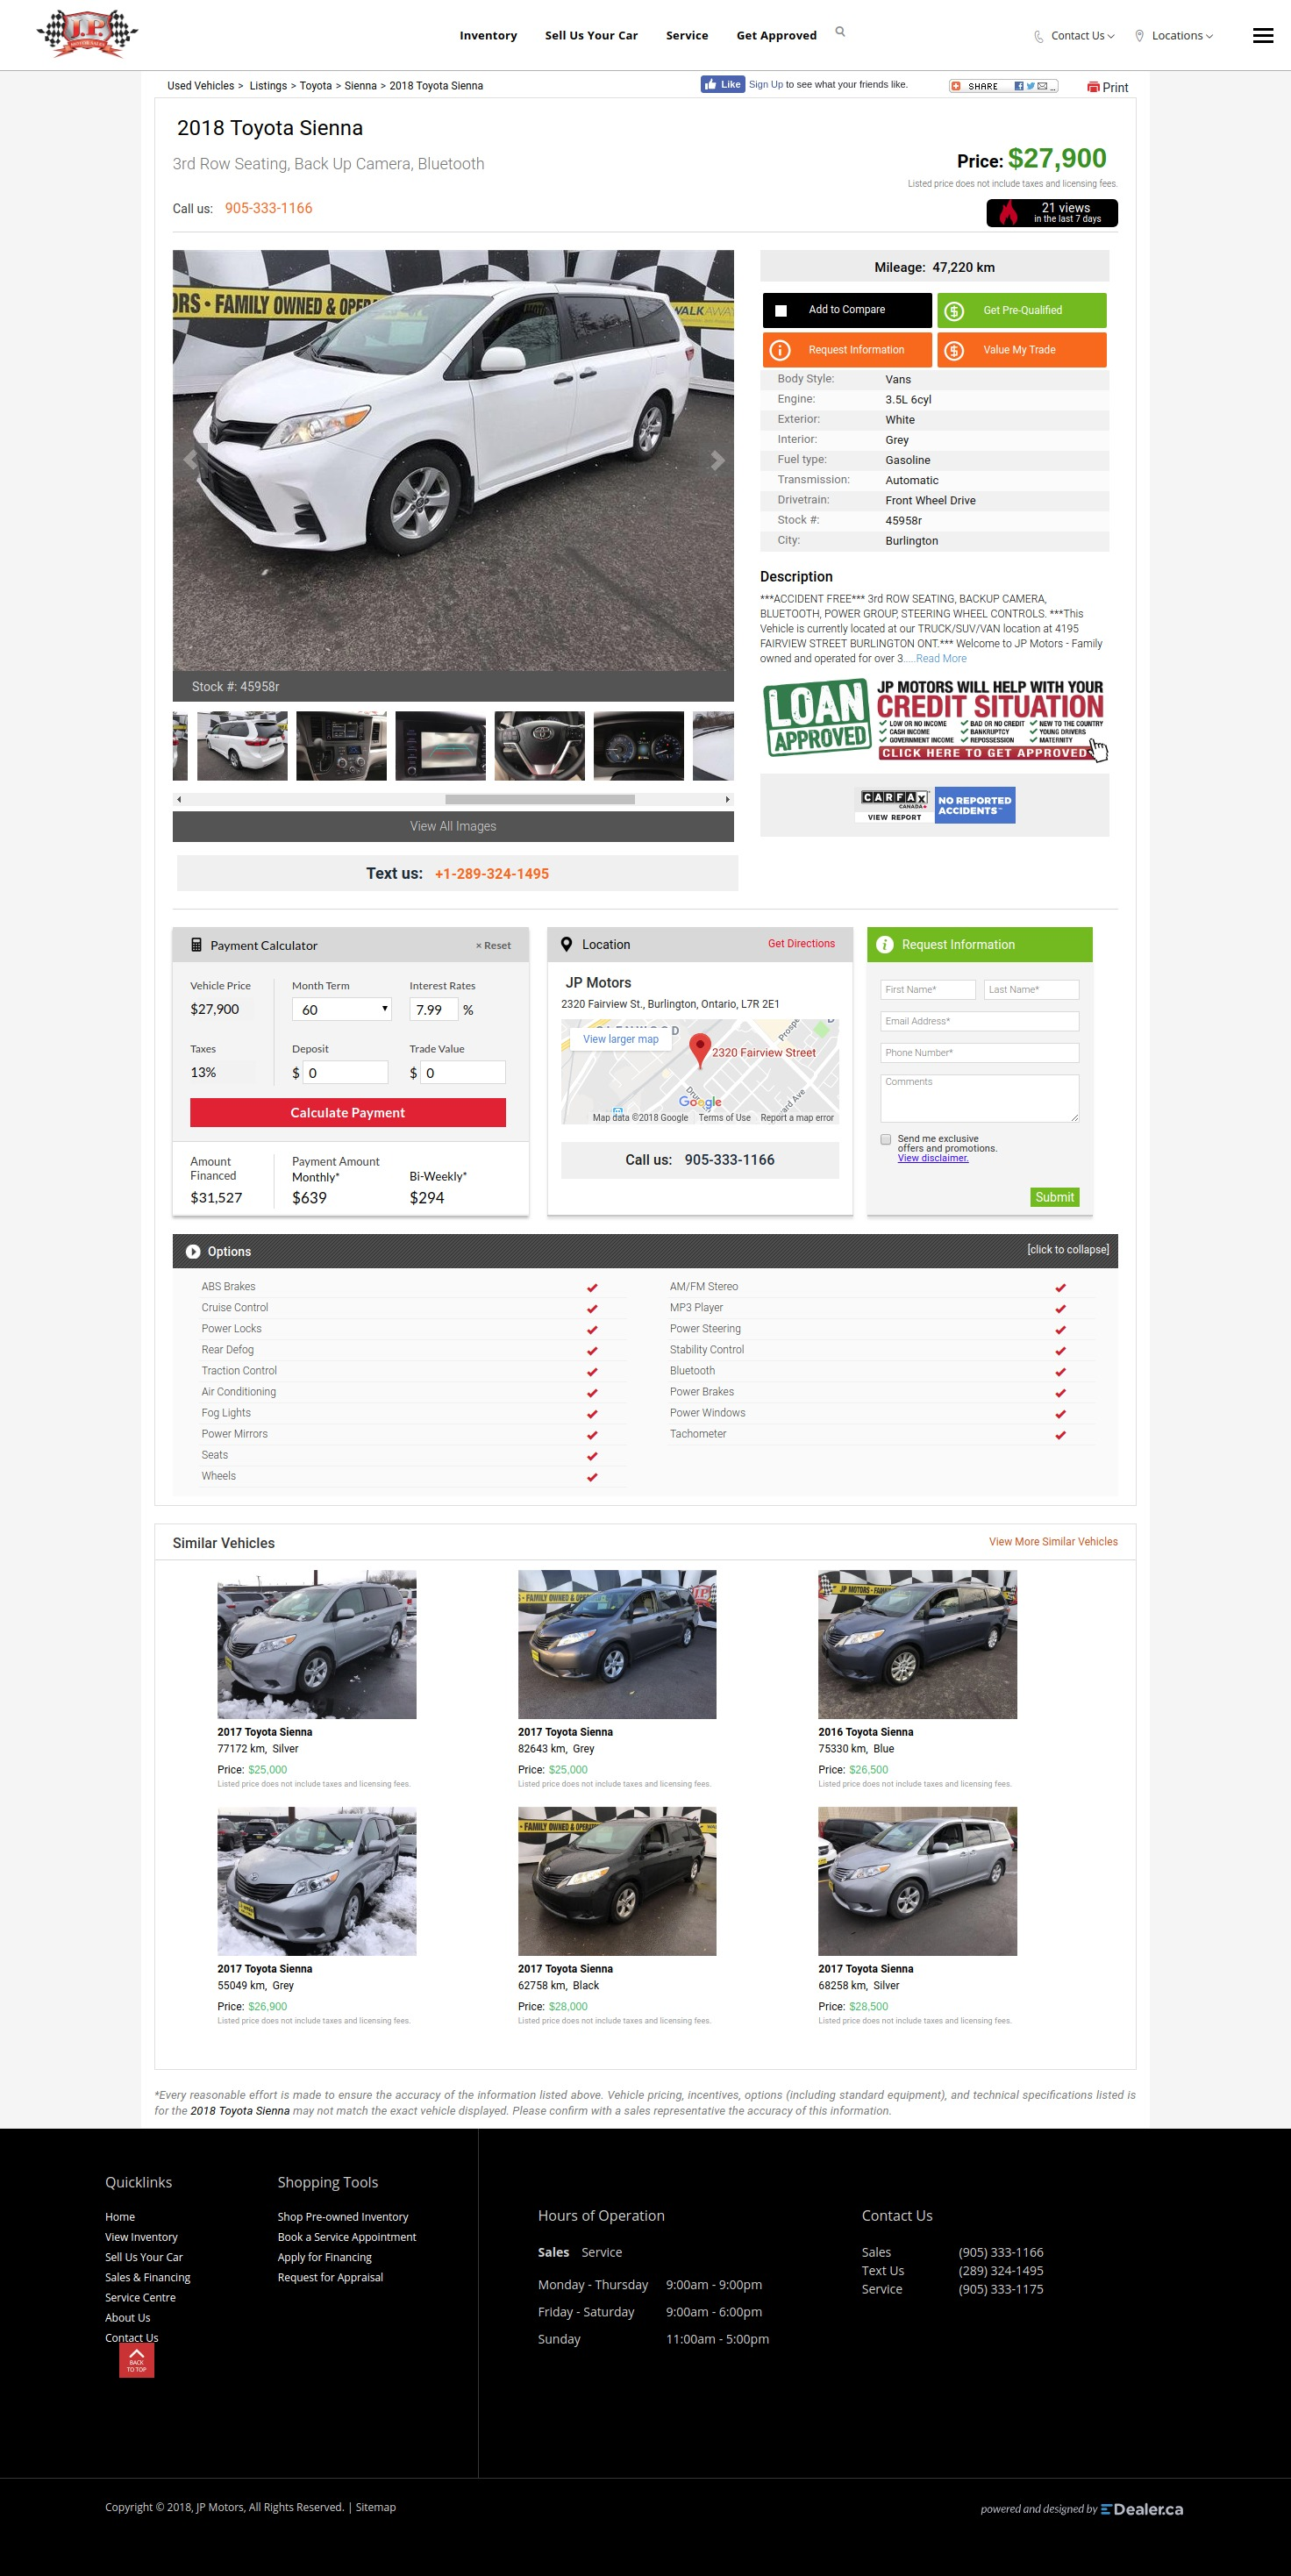car: (726, 797, 731, 803)
